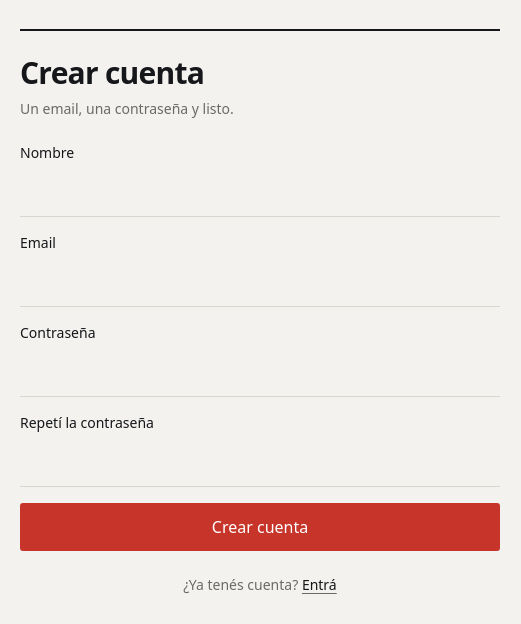
Test: RegisterPage › refuses to create anything when the passwords differ
Type "Ana" into the field labelled "Nombre". click: (260, 193)
box: [20,169,500,217]
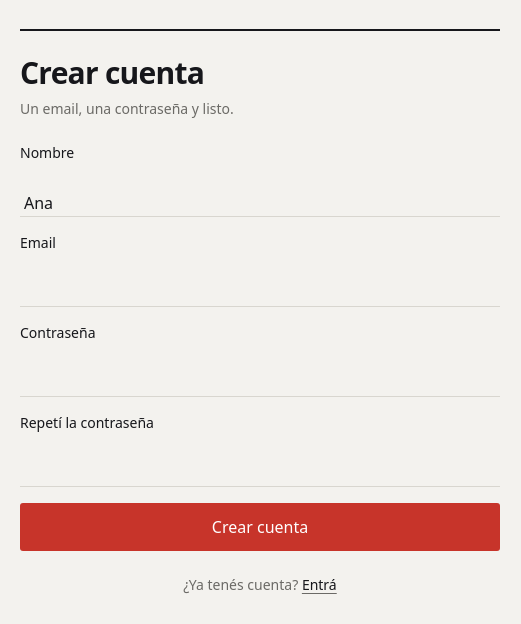
Type "atleta@example.test" into the field labelled "Email". click: (260, 283)
box: [20,259,500,307]
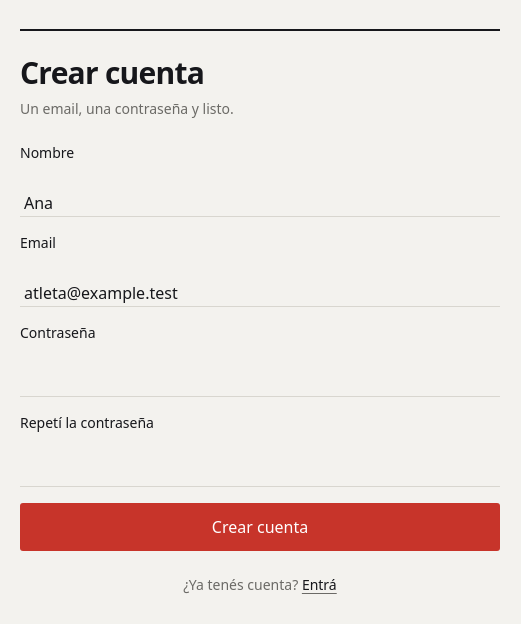
Type "secreta123" into the password field labelled "Contraseña". click: (260, 373)
box: [20,349,500,397]
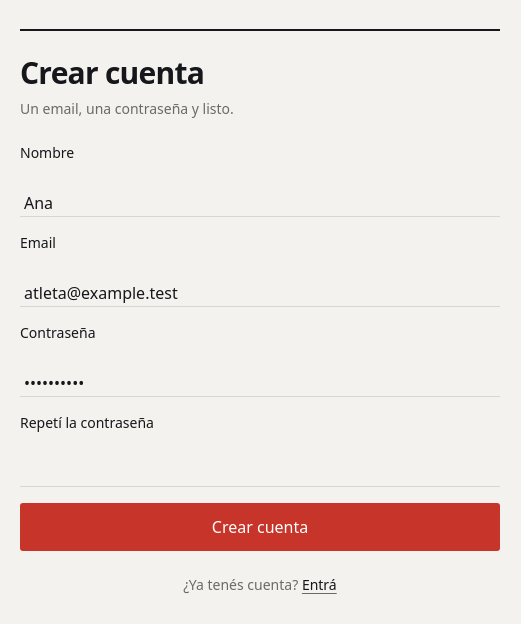
Type "otra12345" into the password field labelled "Repetí la contraseña". click: (260, 463)
box: [20,439,500,487]
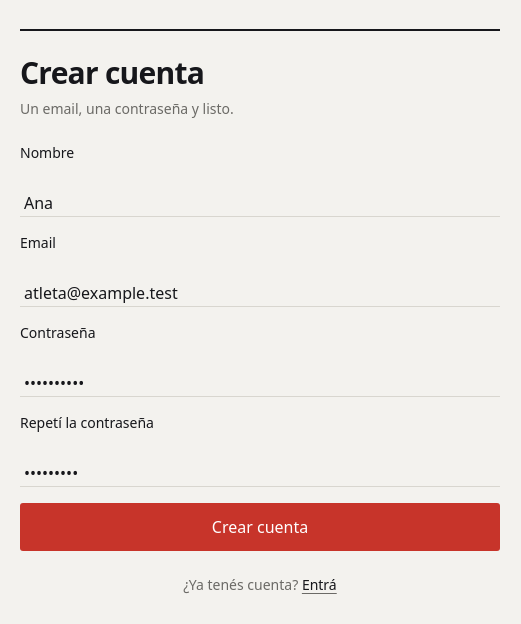
Click the button "Crear cuenta". click: (260, 527)
box: [20,503,500,551]
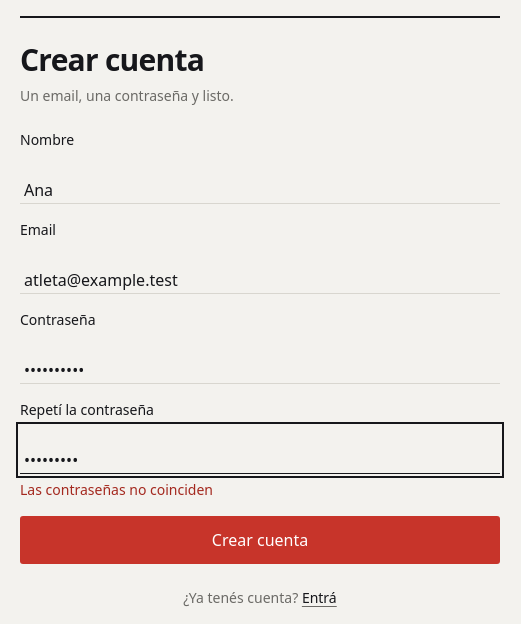
Check: the text "Las contraseñas no coinciden" is shown, box [20,480,213,499]
